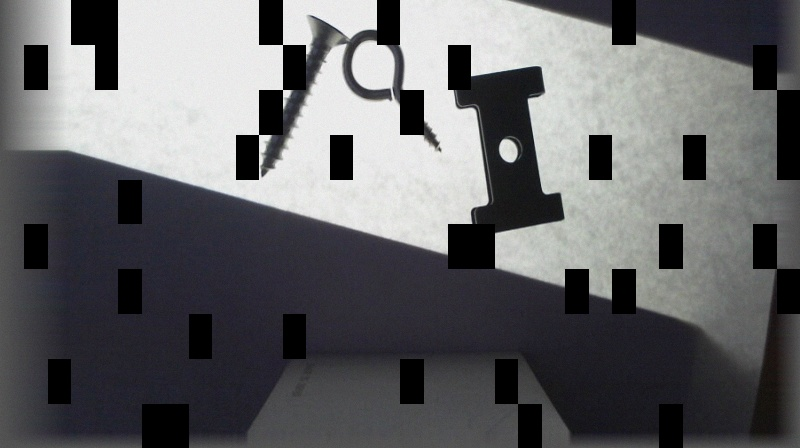O001: (343, 25, 446, 156)
O002: (452, 62, 567, 237)
S001: (257, 13, 348, 180)
